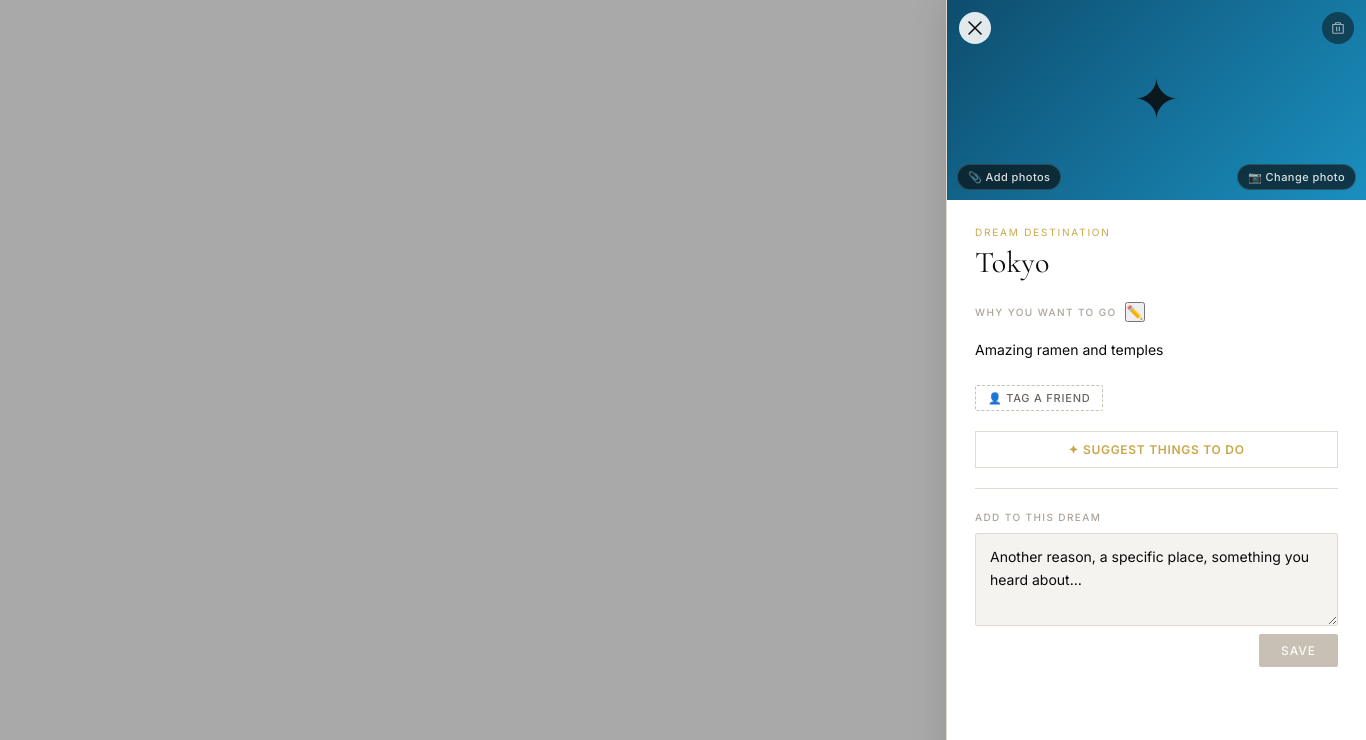
Test: TT28: DreamDetail dreamNote inline editing › clicking pencil reveals textarea pre-filled with current dreamNote
What coordinates should you click on to do the following:
click the button "✏️"
I would click on:
 (1135, 312)
Its box is [1125, 302, 1145, 322].
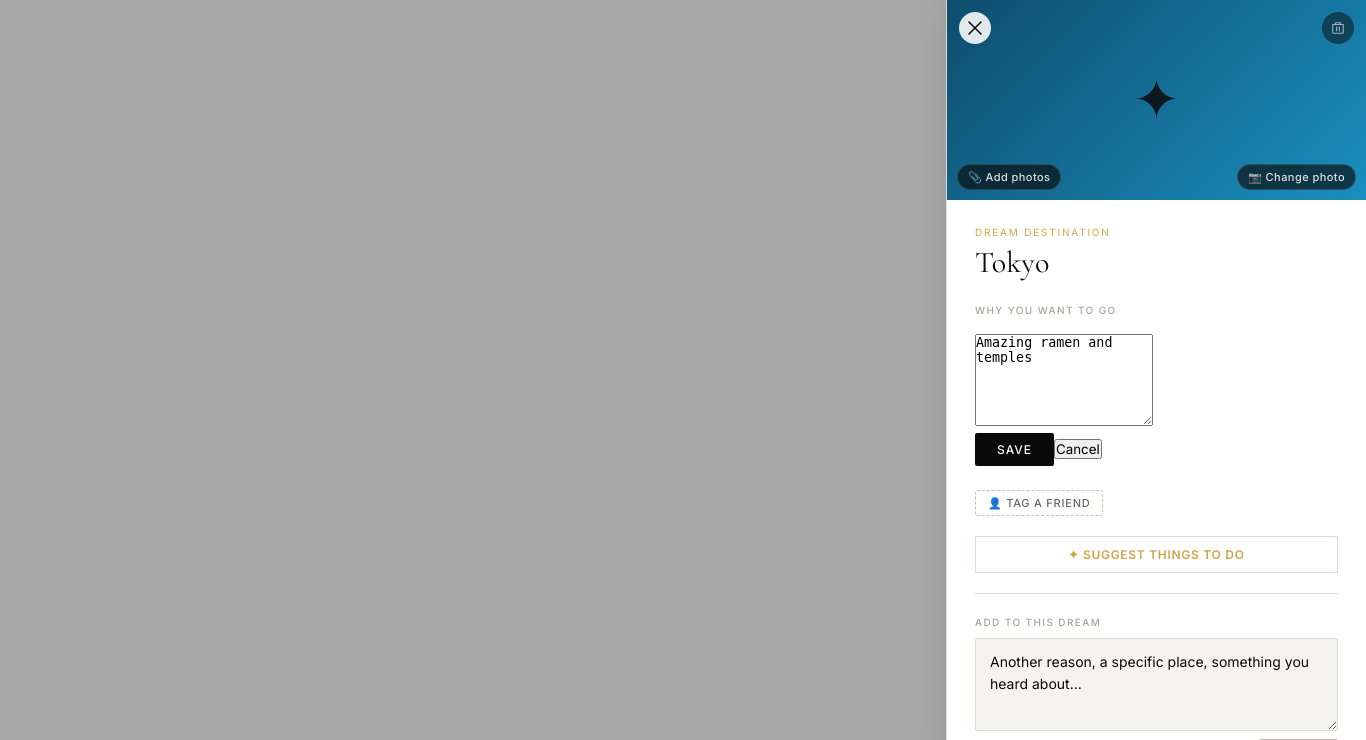
Expected: the text box with placeholder "Why do you want to go here?" holds "Amazing ramen and temples", [975, 334, 1153, 426]
